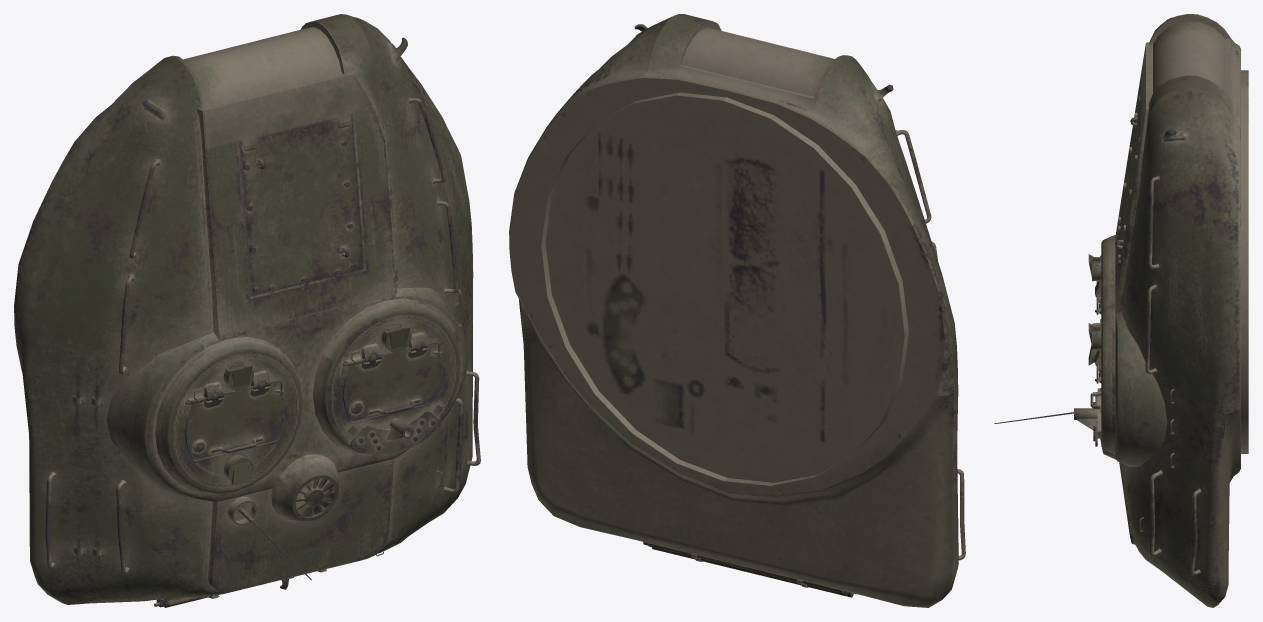
Rendered from Turret_01.glb.
3 renders of one model, left to right at view 1: azimuth 30°, elevation 25°; view 2: azimuth 150°, elevation 25°; view 3: azimuth 270°, elevation 25°, orthographic. The views are drawn at different scales.
Parts seen in each view (by area): view 1: set_0_group_0; view 2: set_0_group_0; view 3: set_0_group_0.
Part boxes in pixels (x1,y1,x2,y2): set_0_group_0: [14, 14, 480, 607]; set_0_group_0: [509, 14, 965, 607]; set_0_group_0: [994, 14, 1248, 607].
Size of the model in its own units: 2.54 by 2.95 by 1.39.
Materials: 1 (1 with a texture image).
